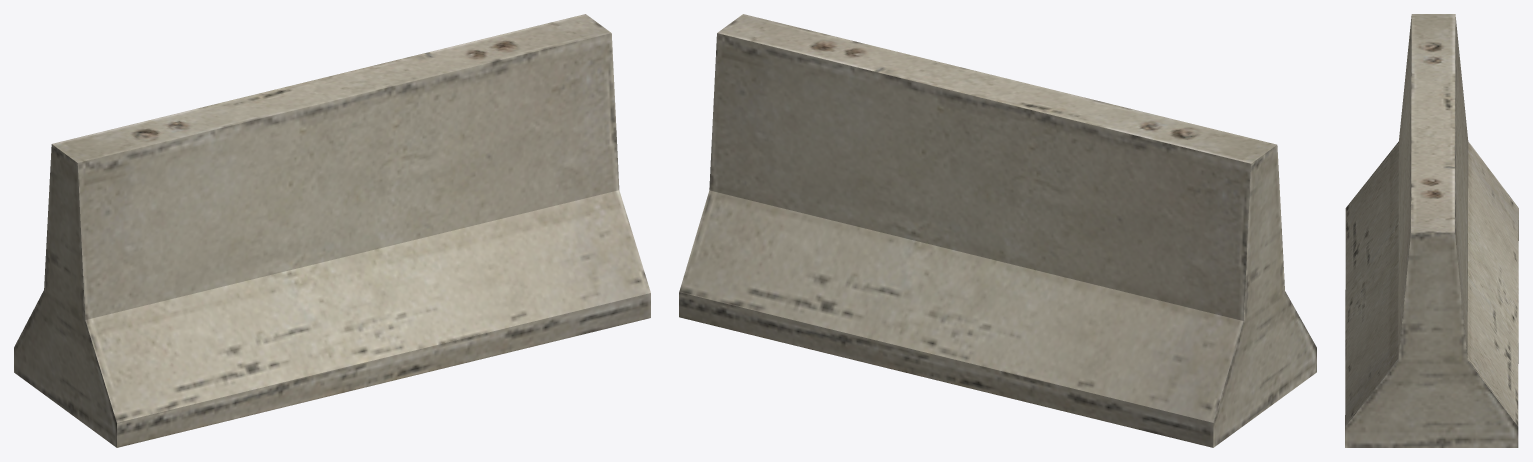
Rendered from xiaowupin01.fbx.
3 views of the same model, side by side, from view 1: azimuth 30°, elevation 25°; view 2: azimuth 150°, elevation 25°; view 3: azimuth 270°, elevation 25° (orthographic). The views are drawn at different scales.
Visible parts, largest first — view 1: Barrier46; view 2: Barrier46; view 3: Barrier46.
Part boxes in pixels (<box>): Barrier46: <box>14,14,650,447</box>; Barrier46: <box>679,14,1316,447</box>; Barrier46: <box>1345,14,1518,447</box>.
Bounding box in the file's own units: 312 × 143 × 105.
